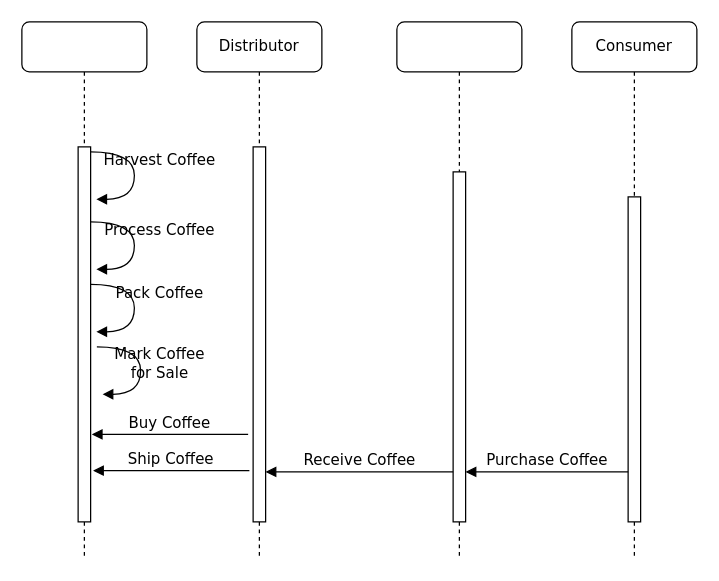
Some shapes in this 719 by 581 pixel diagram are drawn without their labels. The shapes that lost their labels are listed below. From the top down, each one's box as (x1, y1, x2, y2) in pixels, then its label:
(21, 21, 147, 559): Farmer
(396, 21, 522, 559): Retailer
